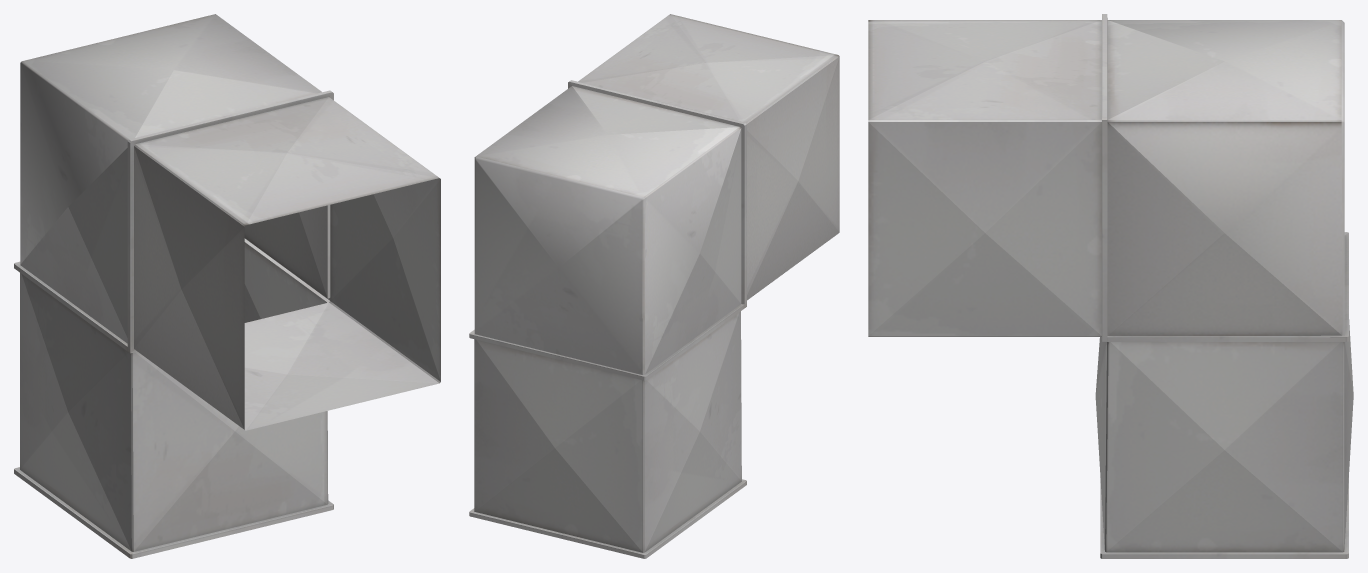
The model's file is props_spytech_vent_system_corner_small.glb.
3 renders of one model, left to right at view 1: azimuth 30°, elevation 25°; view 2: azimuth 150°, elevation 25°; view 3: azimuth 270°, elevation 25°, orthographic. The views are drawn at different scales.
Visible parts, largest first — view 1: models/props_spytech/vent_system_corner_small; view 2: models/props_spytech/vent_system_corner_small; view 3: models/props_spytech/vent_system_corner_small.
Boxes of the visible parts, <box> form: models/props_spytech/vent_system_corner_small: <box>14,14,440,558</box>; models/props_spytech/vent_system_corner_small: <box>469,14,839,558</box>; models/props_spytech/vent_system_corner_small: <box>868,14,1353,558</box>.
Size of the model in its own units: 34.5 by 65.62 by 64.88.
Materials: 1 (1 with a texture image).
